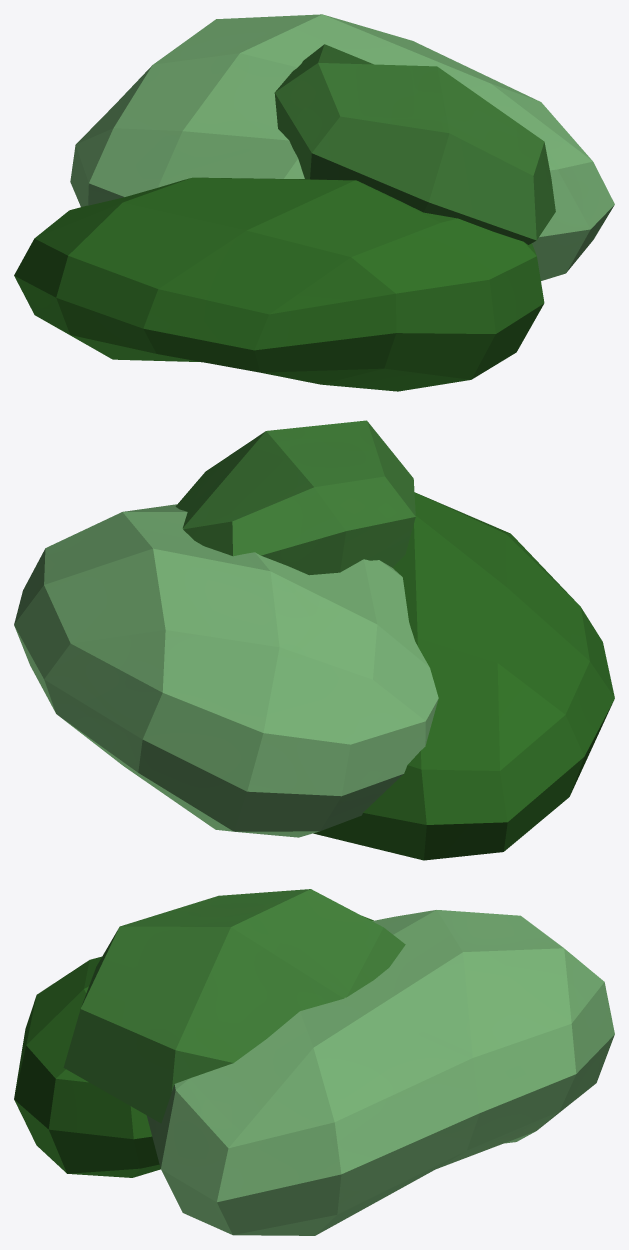
The model's file is Bush.fbx.
3 views of the same model, one above another, from view 1: azimuth 30°, elevation 25°; view 2: azimuth 150°, elevation 25°; view 3: azimuth 270°, elevation 25° (orthographic). The views are drawn at different scales.
Parts seen in each view (by area): view 1: Leaf_Top.003; view 2: Leaf_Top.003; view 3: Leaf_Top.003.
Boxes of the visible parts, bbox=[...] form: Leaf_Top.003: bbox=[14, 14, 614, 391]; Leaf_Top.003: bbox=[14, 420, 614, 860]; Leaf_Top.003: bbox=[14, 889, 614, 1235].
Bounding box in the file's own units: 400 × 207 × 385.
